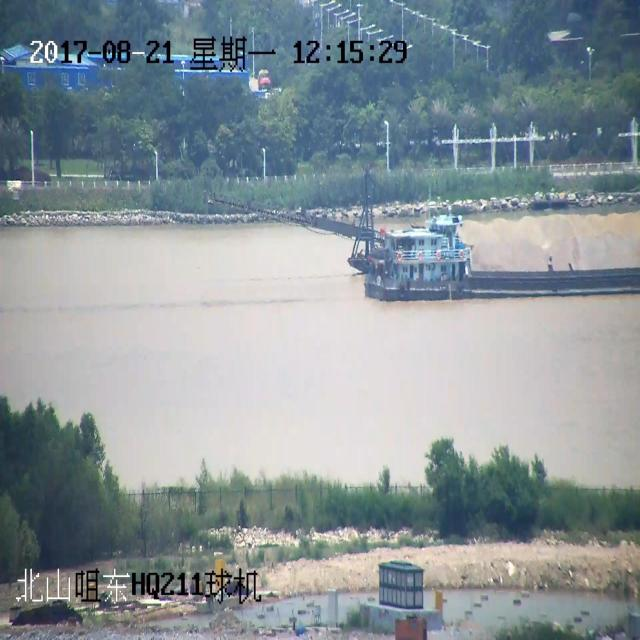cargoship: (331, 194, 638, 325)
